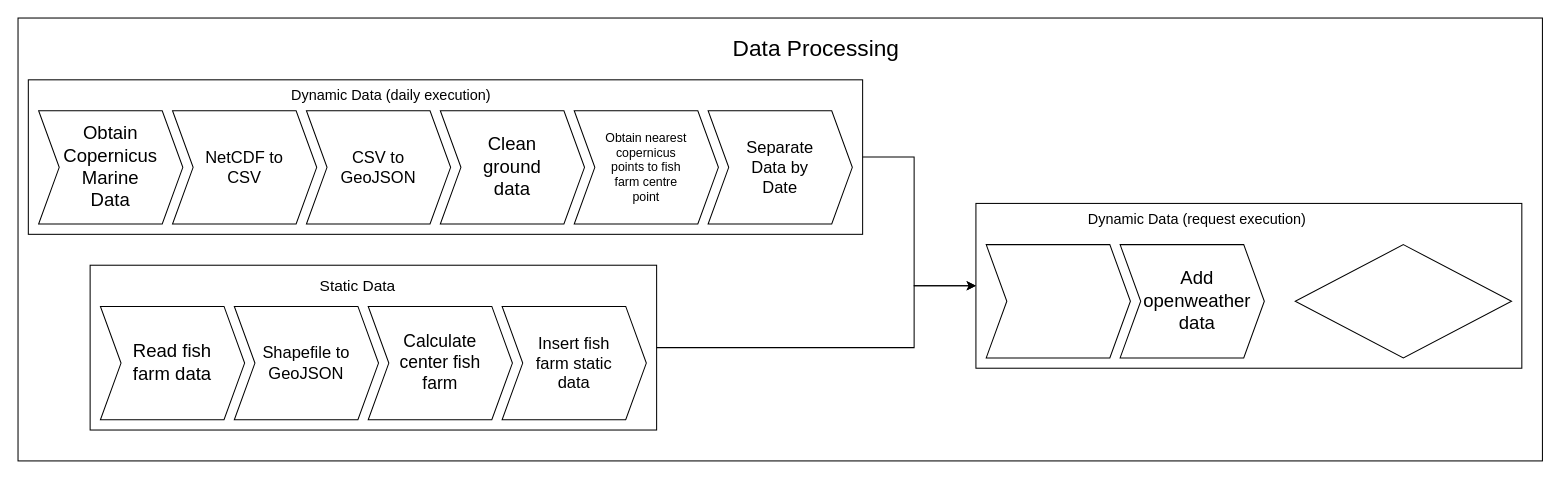
Image size: 1560x479. Some labels were removed from this diagram. Here are the shapes that lost their labels. From the top down, the centre of each, then its label:
(x=1057, y=301): Select data by date and hour
(x=1403, y=301): Display on Mapbox
